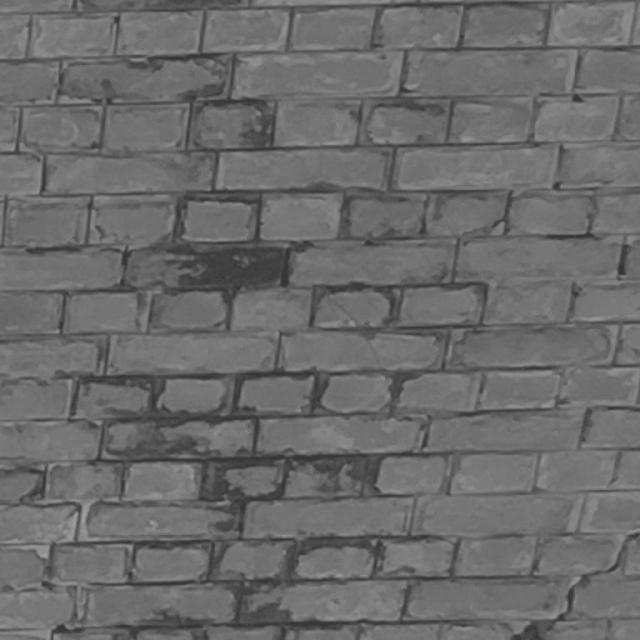crack: (513, 531, 639, 640)
